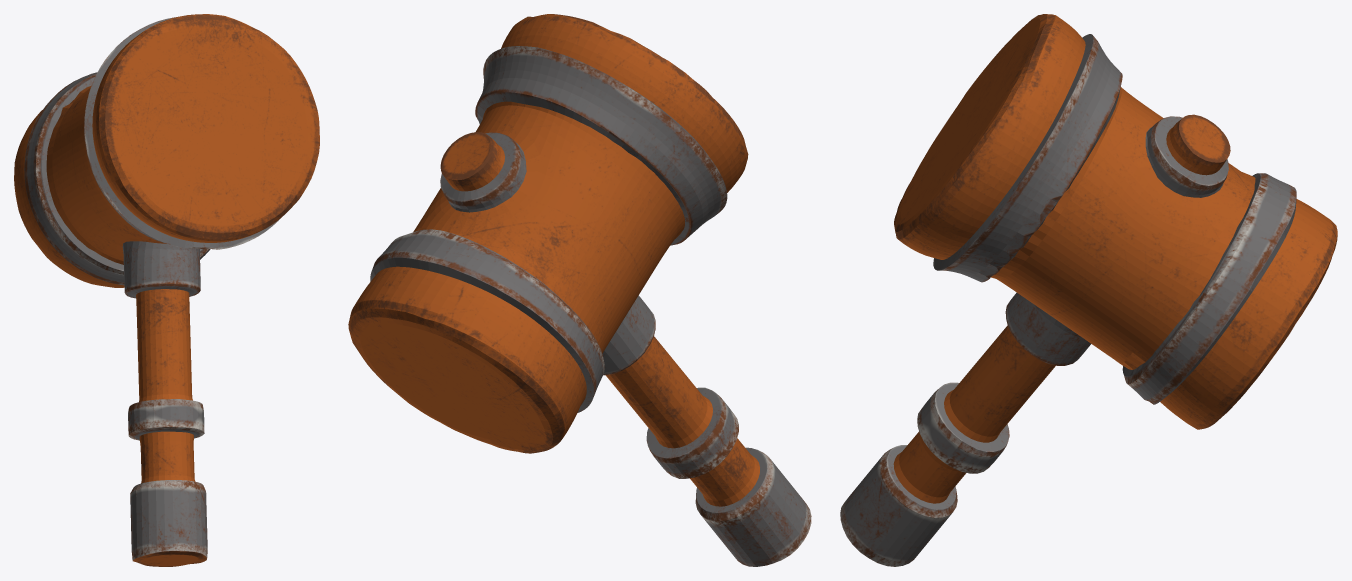
The model's file is młot.fbx.
3 views of the same model, side by side, from view 1: azimuth 30°, elevation 25°; view 2: azimuth 150°, elevation 25°; view 3: azimuth 270°, elevation 25° (orthographic). The views are drawn at different scales.
Visible parts, largest first — view 1: Mallet_0; view 2: Mallet_0; view 3: Mallet_0.
Boxes of the visible parts, x1,y1,x2,y2 form: Mallet_0: [14, 14, 319, 566]; Mallet_0: [348, 14, 811, 566]; Mallet_0: [840, 14, 1337, 566].
Size of the model in its own units: 58.39 by 118 by 92.59.
